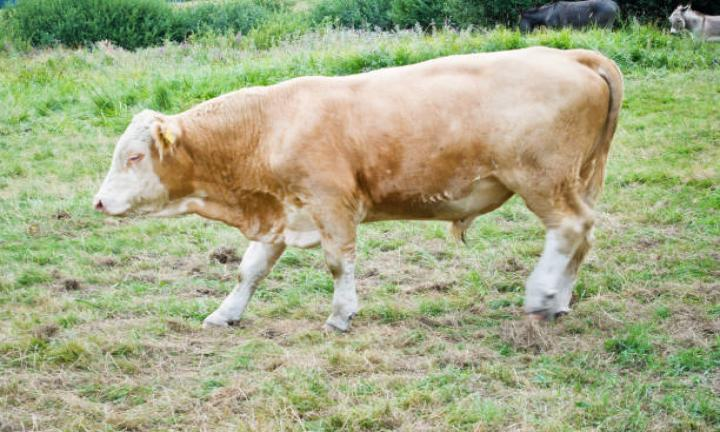Charolais: (93, 46, 622, 330)
